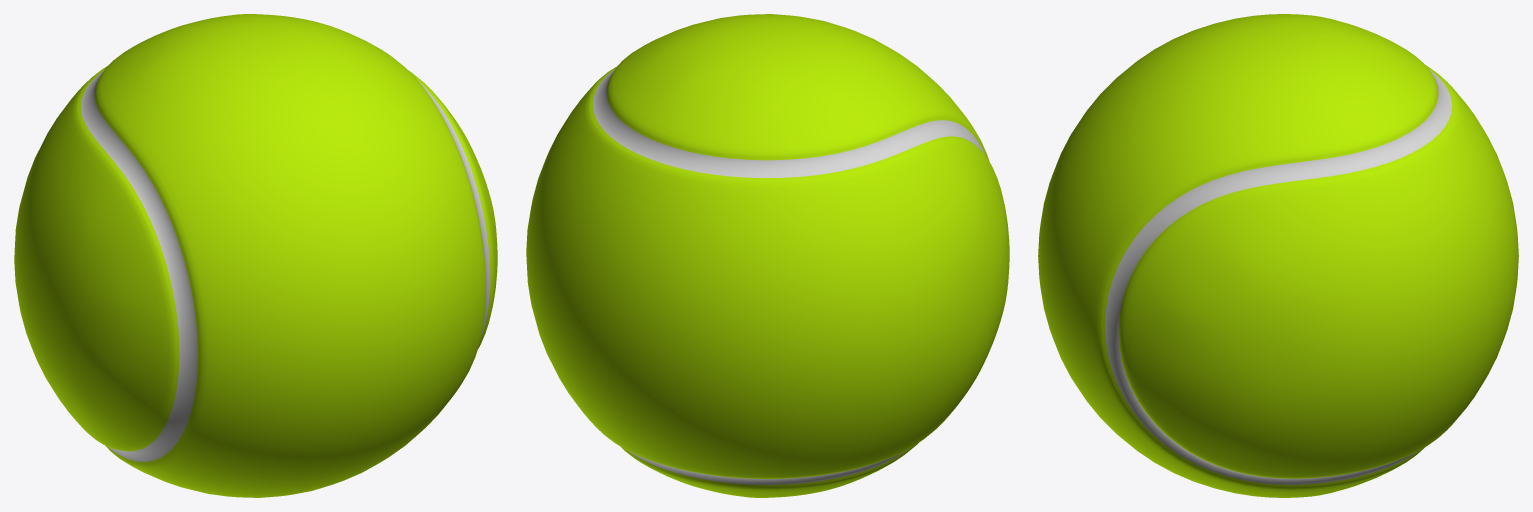
3 renders of one model, left to right at view 1: azimuth 30°, elevation 25°; view 2: azimuth 150°, elevation 25°; view 3: azimuth 270°, elevation 25°, orthographic.
Parts seen in each view (by area): view 1: ball; view 2: ball; view 3: ball.
Part boxes in pixels (x1,y1,x2,y2): ball: (14, 14, 497, 497); ball: (526, 14, 1009, 497); ball: (1038, 14, 1518, 497).
Bounding box in the file's own units: 0.0662 × 0.0661 × 0.0662.
